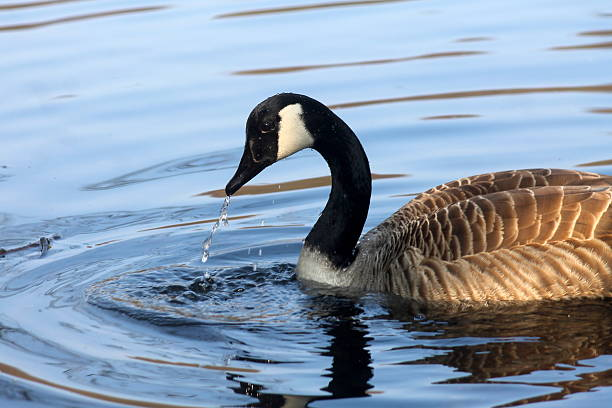goose: (218, 86, 612, 306)
